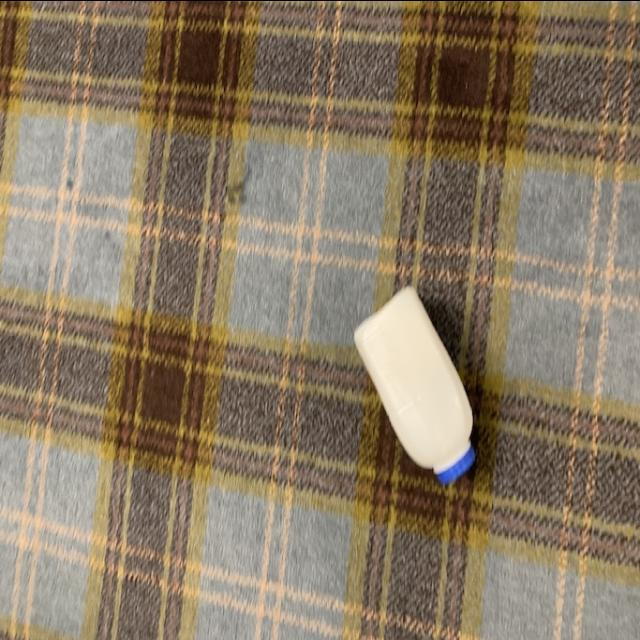HDPEM: (356, 275, 480, 485)
